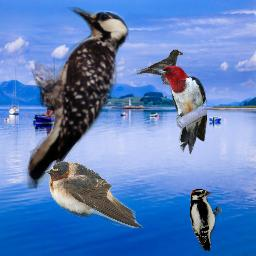Crow: (136, 49, 183, 85)
Swallow: (45, 161, 143, 228)
Woodpecker: (22, 5, 141, 195), (151, 65, 207, 154), (190, 189, 222, 251)
